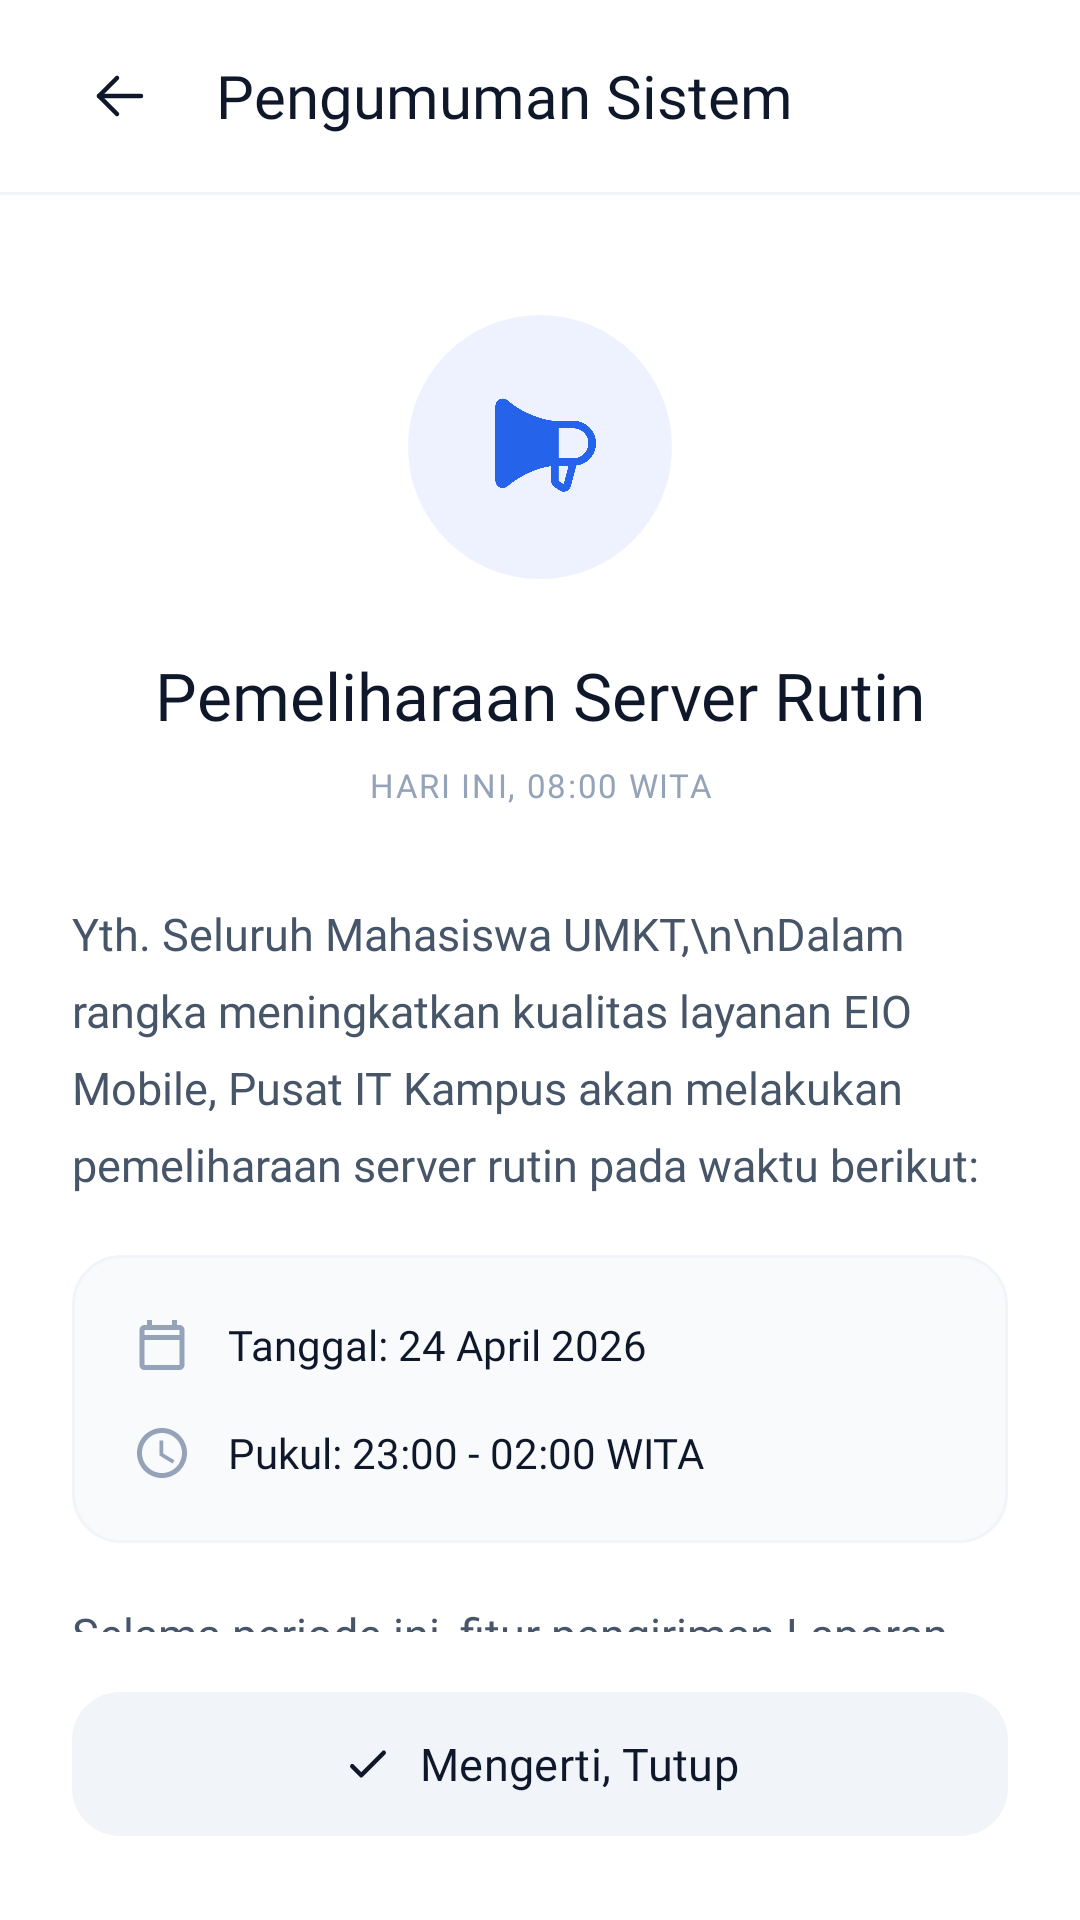

Icons on this 1080 x 1920 Android screen, each with the point to tap as [x,y]:
arrow back modern: [119,96]
calendar: [162,1345]
clock: [162,1453]
speaker: [545,445]
